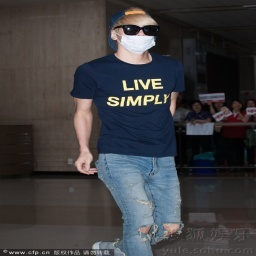incorrectlyWear: (109, 19, 158, 53)
